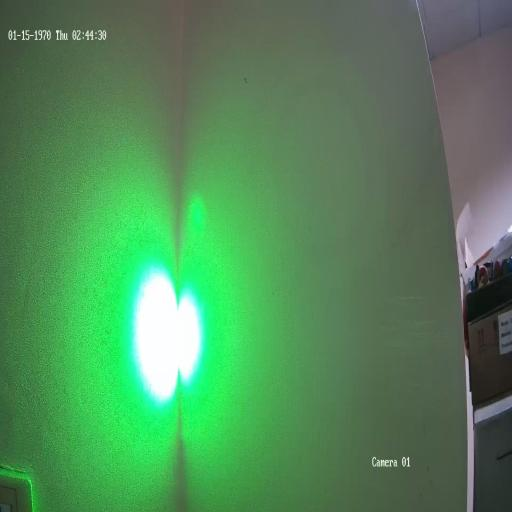laser: (113, 242, 227, 412)
